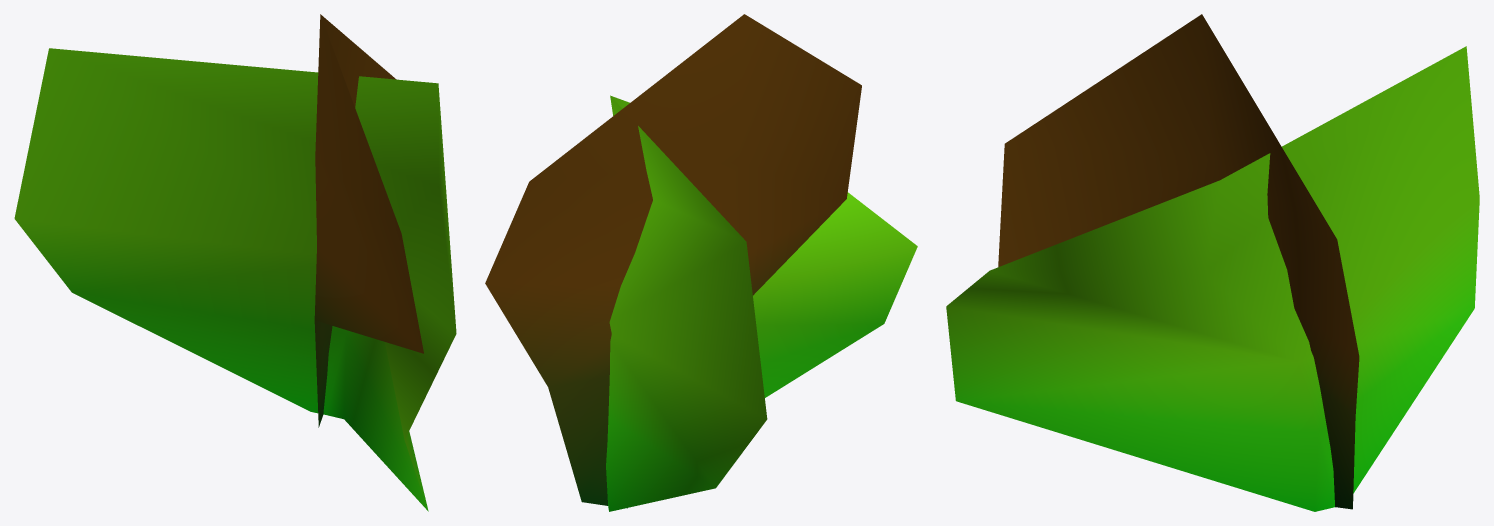
Rendered from Var1Hi10.fbx.
The picture shows the model from 3 angles, left to right: view 1: azimuth 30°, elevation 25°; view 2: azimuth 150°, elevation 25°; view 3: azimuth 270°, elevation 25°; orthographic projection.
Visible parts, largest first — view 1: bend1; view 2: bend1; view 3: bend1.
Boxes of the visible parts, left/top/right/bottom form: bend1: left=14, top=14, right=456, bottom=511; bend1: left=485, top=14, right=917, bottom=511; bend1: left=946, top=14, right=1479, bottom=511.
Size of the model in its own units: 1.04 by 1.36 by 1.41.
